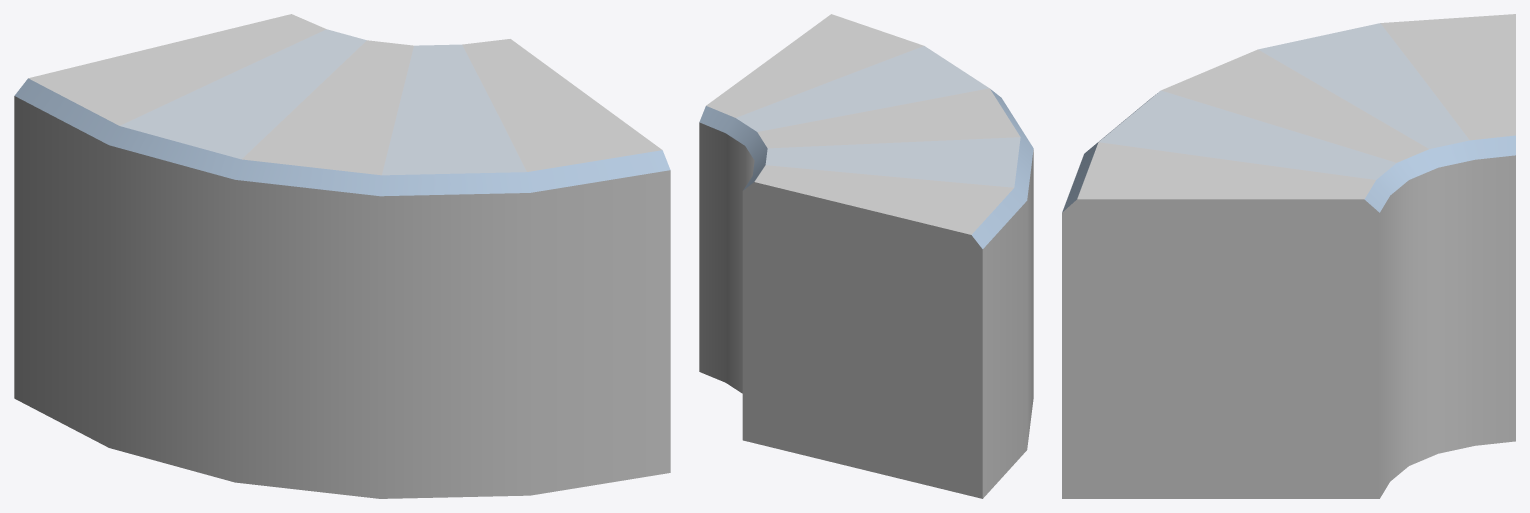
Rendered from Path02.fbx.
3 views of the same model, side by side, from view 1: azimuth 30°, elevation 25°; view 2: azimuth 150°, elevation 25°; view 3: azimuth 270°, elevation 25° (orthographic). The views are drawn at different scales.
Parts seen in each view (by area): view 1: Path_02; view 2: Path_02; view 3: Path_02.
Boxes of the visible parts, x1,y1,x2,y2 form: Path_02: [14, 14, 670, 498]; Path_02: [699, 14, 1033, 498]; Path_02: [1062, 14, 1515, 498].
Size of the model in its own units: 429 by 312 by 429.
